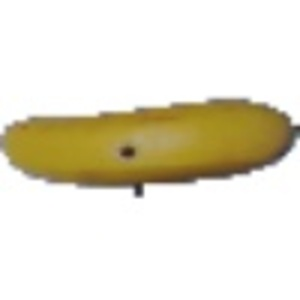banana: (1, 93, 298, 193)
